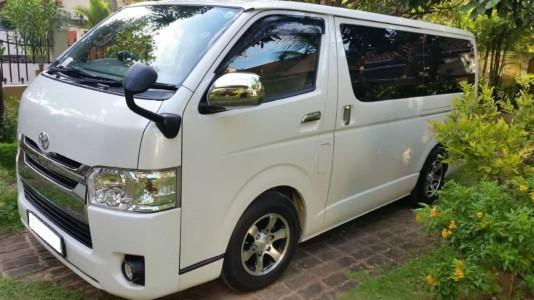car: (17, 0, 485, 300)
